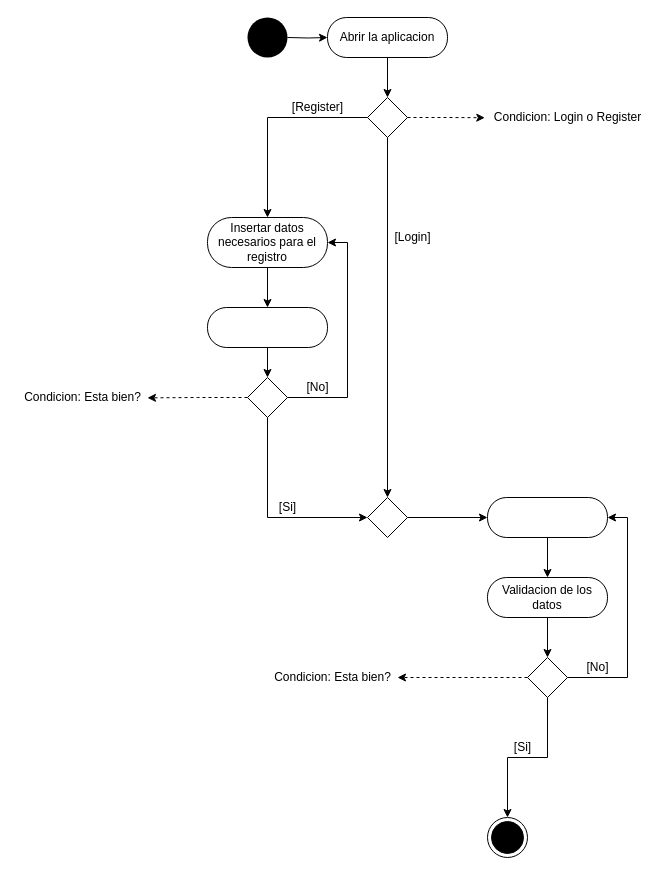
This 664x875 diagram has some shape labels left out. Here are the shapes that lost their labels. From the top down, the box of each, then its label:
(206, 306, 328, 348): Validacion de los datos con la DB
(486, 496, 608, 538): Login
